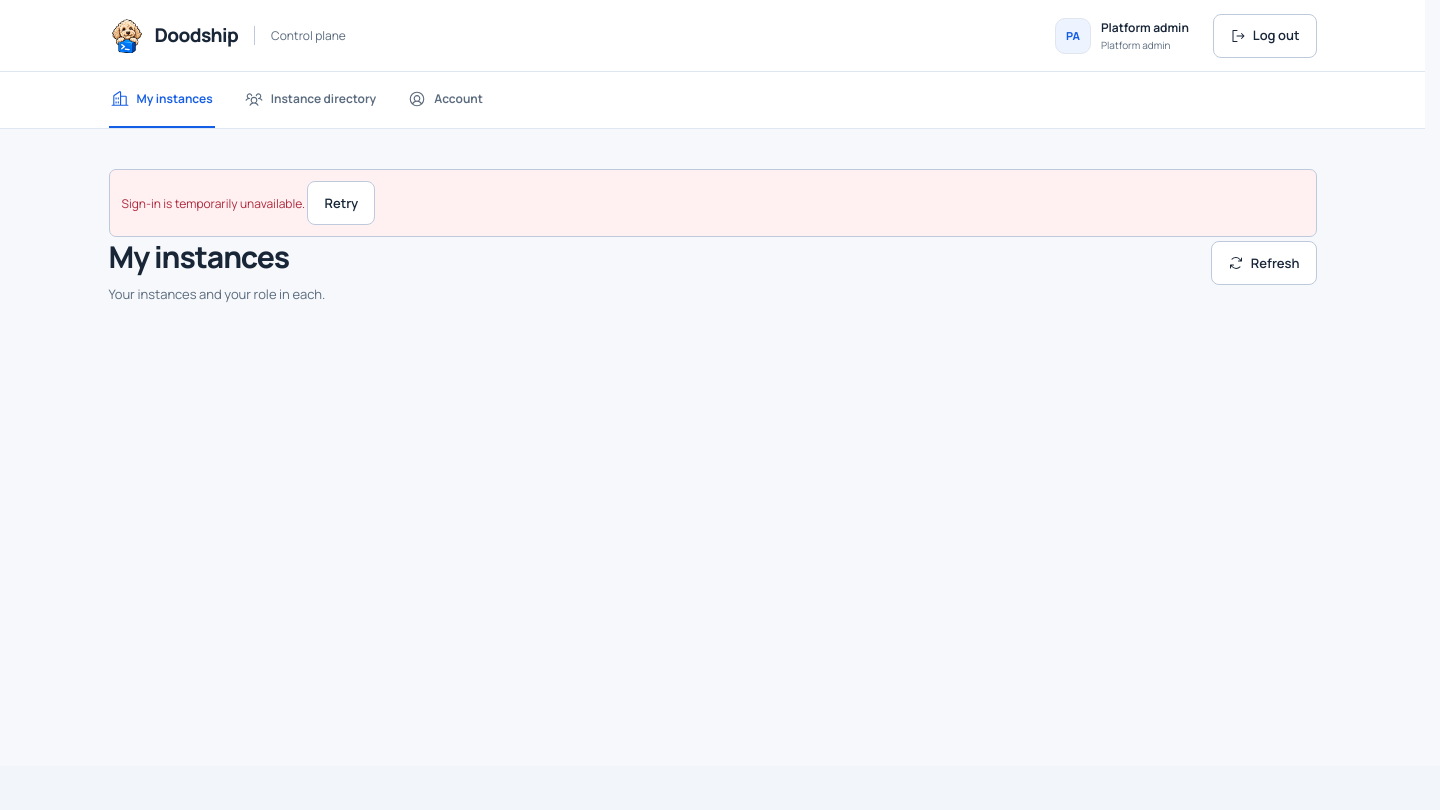
Scenario: retries instance sign-in after a failed handoff
Expected: the text "Sign-in is temporarily unavailable." is shown, [122,195,305,212]
Click the button "Retry": (341,203) [308,181,375,225]
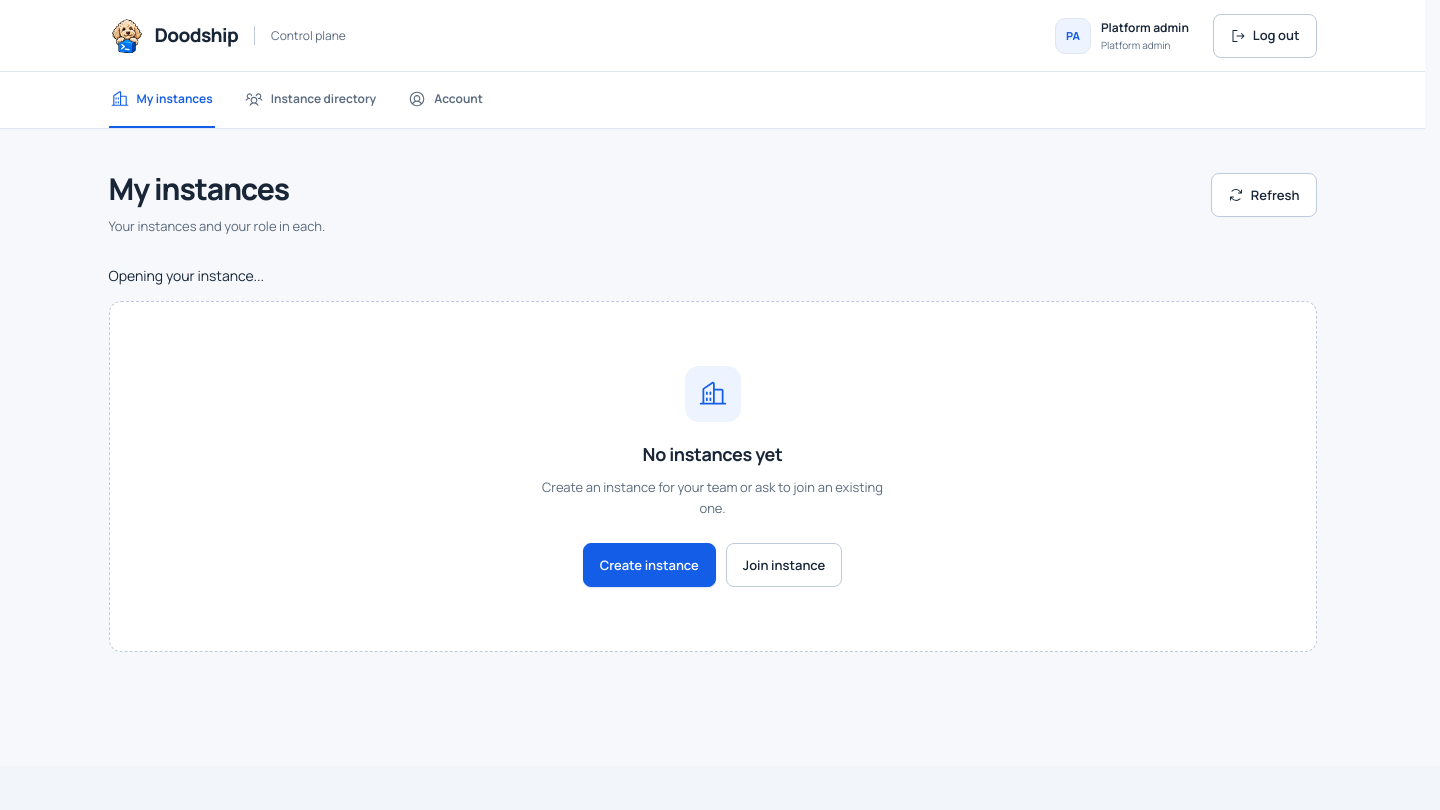
Now the text "Opening your instance..." is shown, box [108,266,264,285]
